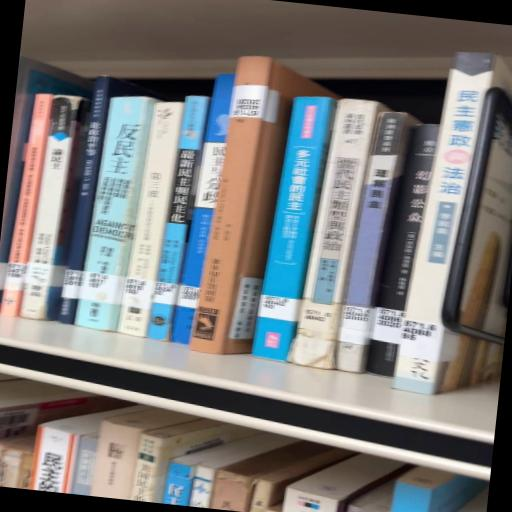reverse: (190, 57, 340, 355)
